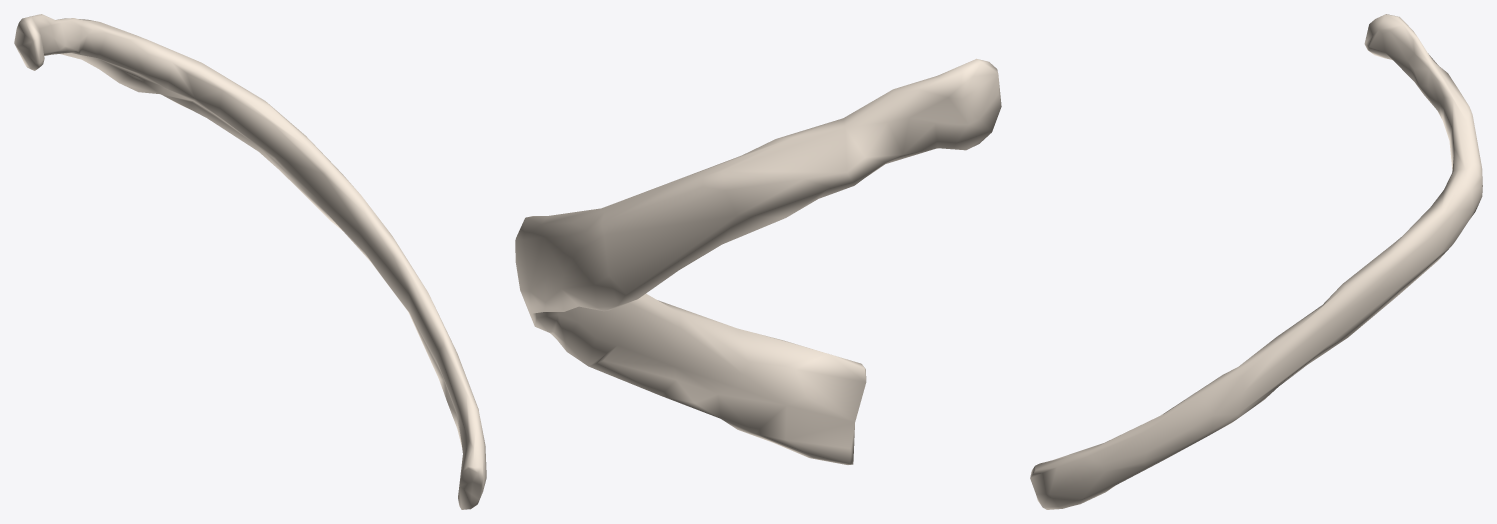
Rendered from left_rib_8.glb.
3 renders of one model, left to right at view 1: azimuth 30°, elevation 25°; view 2: azimuth 150°, elevation 25°; view 3: azimuth 270°, elevation 25°, orthographic. The views are drawn at different scales.
Visible parts, largest first — view 1: Rib (8th).r; view 2: Rib (8th).r; view 3: Rib (8th).r.
Boxes of the visible parts, x1=… form: Rib (8th).r: x1=14, y1=14, x2=486, y2=509; Rib (8th).r: x1=515, y1=58, x2=1001, y2=464; Rib (8th).r: x1=1030, y1=14, x2=1482, y2=509.
Size of the model in its own units: 0.119 by 0.1516 by 0.1631.
